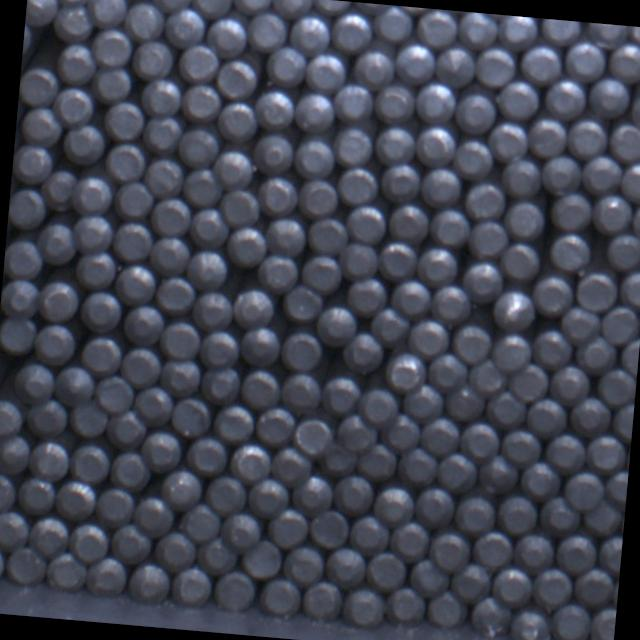tool: (414, 80, 458, 126), (476, 452, 522, 496), (329, 10, 374, 54), (322, 544, 367, 588), (468, 595, 512, 640), (126, 562, 172, 605), (133, 494, 177, 538), (232, 286, 276, 330), (492, 286, 536, 330), (140, 428, 184, 472), (516, 42, 562, 84), (288, 13, 332, 56), (28, 514, 71, 558), (585, 75, 629, 118), (159, 467, 203, 510), (562, 38, 605, 82), (70, 172, 114, 215), (373, 482, 416, 526), (392, 41, 434, 86), (568, 394, 613, 436), (27, 439, 70, 482), (34, 321, 77, 364), (566, 115, 609, 158), (415, 125, 458, 168), (542, 75, 585, 118), (85, 556, 128, 599), (280, 329, 323, 372), (472, 46, 516, 88), (576, 270, 620, 312), (53, 479, 97, 521), (110, 522, 154, 564), (448, 561, 492, 603), (489, 564, 533, 606), (204, 472, 248, 514), (314, 304, 358, 346), (547, 362, 591, 404), (12, 362, 56, 404), (571, 566, 615, 608), (544, 431, 588, 473), (62, 122, 106, 164), (122, 302, 166, 344), (290, 474, 334, 516), (340, 332, 384, 374), (453, 493, 498, 534), (434, 45, 476, 88), (530, 566, 573, 608), (241, 538, 284, 580), (37, 278, 79, 321), (389, 522, 432, 564), (213, 570, 256, 612), (230, 439, 273, 481), (301, 579, 344, 621), (428, 528, 471, 570), (72, 213, 114, 256), (171, 566, 214, 608), (435, 450, 478, 492), (453, 92, 496, 134), (420, 165, 462, 208), (539, 154, 581, 197), (185, 248, 228, 290), (414, 485, 456, 528), (322, 373, 364, 416), (238, 324, 281, 366), (461, 260, 504, 302), (395, 444, 438, 486), (518, 461, 562, 502), (562, 468, 606, 509), (384, 350, 428, 391), (302, 51, 346, 92), (496, 78, 540, 119), (155, 531, 199, 572), (342, 585, 386, 626), (258, 577, 302, 618), (406, 318, 451, 358), (68, 520, 110, 562), (120, 345, 162, 387), (207, 14, 249, 56), (80, 334, 122, 376), (166, 6, 208, 48), (170, 395, 212, 437), (54, 364, 96, 406), (268, 506, 310, 548), (178, 126, 220, 168), (188, 434, 230, 476), (530, 328, 572, 370), (293, 138, 335, 180), (554, 532, 596, 574), (242, 366, 284, 408), (282, 544, 324, 586), (254, 86, 296, 128), (380, 162, 422, 204), (116, 263, 158, 305), (279, 371, 321, 413), (80, 290, 122, 332), (550, 230, 592, 272), (530, 274, 572, 316), (334, 474, 376, 516), (5, 544, 48, 585), (524, 397, 567, 438), (217, 57, 260, 98), (582, 153, 625, 194), (470, 529, 513, 570), (225, 225, 268, 266), (551, 190, 594, 231), (418, 243, 461, 284), (308, 508, 352, 548), (268, 444, 312, 484), (335, 411, 379, 451), (194, 536, 238, 576), (538, 495, 582, 535), (389, 202, 433, 242), (248, 477, 290, 518), (598, 304, 639, 346), (492, 332, 534, 373), (70, 441, 112, 482), (592, 192, 634, 233), (112, 219, 154, 260), (372, 124, 414, 165), (508, 361, 550, 402), (350, 514, 392, 555), (410, 557, 452, 598), (94, 486, 135, 528), (454, 136, 495, 178), (257, 175, 298, 217), (220, 511, 262, 552), (488, 120, 529, 162), (134, 385, 175, 427), (496, 494, 538, 535), (21, 105, 62, 147), (55, 42, 96, 84), (372, 80, 414, 121), (264, 215, 306, 256), (528, 114, 568, 157), (364, 550, 407, 590), (46, 552, 89, 592), (500, 428, 543, 468), (215, 402, 258, 442), (428, 352, 471, 392), (179, 502, 222, 542), (384, 586, 427, 626), (36, 221, 76, 264), (580, 498, 623, 538), (351, 48, 394, 88), (308, 214, 351, 254), (429, 206, 472, 246), (443, 381, 486, 421), (575, 335, 618, 375), (26, 396, 69, 436), (18, 65, 59, 106), (143, 156, 184, 197), (105, 100, 146, 141), (217, 99, 258, 140), (248, 12, 288, 54), (266, 46, 306, 88), (452, 324, 494, 364), (12, 142, 54, 182), (7, 187, 47, 229), (338, 164, 380, 204), (420, 415, 462, 455), (255, 404, 297, 444), (459, 420, 501, 460), (180, 42, 220, 84), (584, 434, 626, 474), (53, 86, 95, 126), (432, 282, 474, 322), (110, 448, 152, 488), (466, 182, 508, 222), (500, 155, 542, 195), (346, 274, 388, 314), (213, 148, 255, 188), (294, 90, 334, 132), (512, 532, 554, 572), (390, 277, 432, 317), (402, 381, 444, 421), (359, 385, 401, 425), (333, 124, 373, 166), (108, 406, 150, 446), (140, 76, 182, 116), (200, 364, 242, 404), (370, 305, 412, 345), (597, 365, 637, 406), (299, 178, 340, 218), (182, 167, 223, 207), (159, 320, 200, 360), (153, 196, 194, 236), (254, 132, 294, 173), (134, 39, 174, 80), (378, 238, 419, 278), (193, 290, 234, 330), (346, 203, 387, 243), (151, 236, 192, 276), (218, 188, 260, 227), (162, 355, 204, 394), (198, 329, 240, 368), (76, 249, 118, 288), (356, 442, 398, 481), (425, 589, 467, 628), (294, 415, 334, 455), (96, 372, 136, 412), (16, 476, 56, 516), (468, 357, 508, 397), (106, 142, 146, 182), (332, 81, 372, 121), (504, 198, 544, 238), (114, 178, 154, 218), (383, 412, 423, 452), (189, 206, 229, 246), (156, 275, 197, 314), (70, 398, 111, 437), (458, 11, 500, 49), (414, 8, 456, 46), (550, 602, 592, 640), (558, 304, 600, 342), (301, 254, 343, 292), (282, 282, 324, 320), (507, 604, 551, 640), (126, 1, 166, 40), (258, 254, 298, 293), (94, 27, 134, 66), (5, 239, 44, 279), (500, 240, 540, 279), (484, 387, 526, 424), (372, 4, 412, 42), (2, 278, 40, 318), (182, 82, 222, 120), (0, 313, 37, 354), (144, 114, 183, 152), (54, 2, 93, 40), (468, 218, 508, 255), (341, 240, 378, 278), (605, 231, 640, 271), (607, 41, 640, 83), (496, 15, 538, 48), (95, 66, 134, 101), (608, 119, 640, 161), (321, 440, 358, 476), (0, 431, 31, 473), (0, 508, 30, 550), (584, 22, 630, 48), (87, 0, 128, 29), (540, 18, 582, 44), (598, 532, 622, 574), (603, 466, 628, 506), (0, 398, 23, 439), (590, 606, 616, 640), (613, 400, 634, 441), (620, 161, 640, 203), (619, 270, 640, 310), (25, 0, 58, 25), (620, 336, 640, 376), (191, 0, 231, 17), (0, 472, 16, 514), (272, 0, 313, 16), (311, 0, 351, 14), (22, 15, 34, 59), (232, 0, 272, 12), (148, 0, 191, 11), (630, 85, 640, 128), (632, 200, 640, 241), (628, 26, 640, 44)
